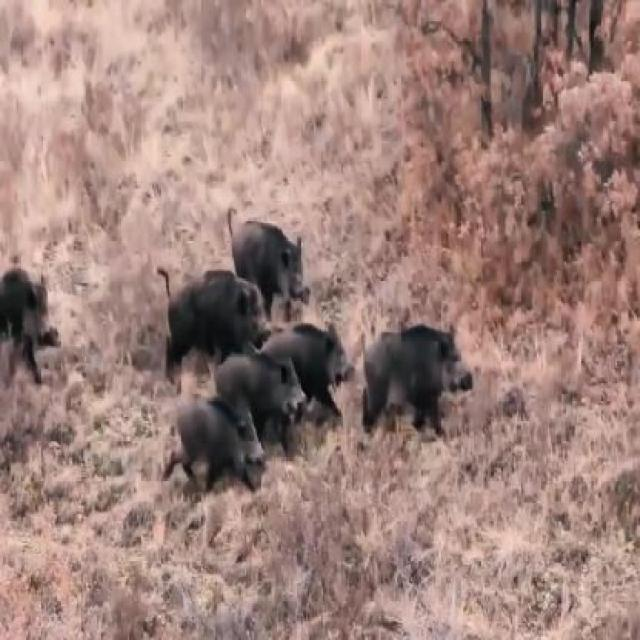pig: (354, 302, 489, 422), (184, 377, 286, 495), (0, 238, 68, 400), (223, 192, 319, 305), (168, 242, 258, 341), (228, 338, 309, 428), (280, 309, 352, 388)
